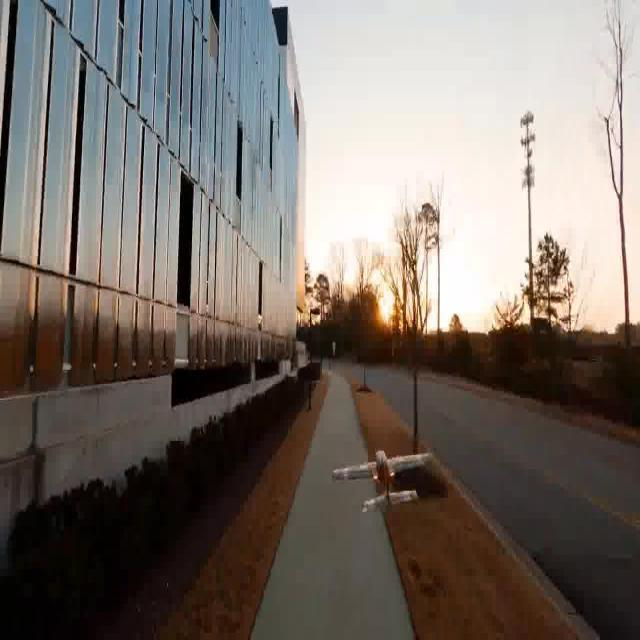iha: (360, 469, 401, 492)
